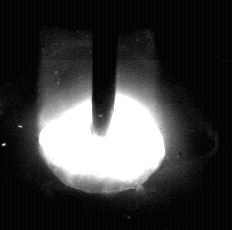arame: (93, 0, 117, 136)
poca: (37, 0, 166, 230)
